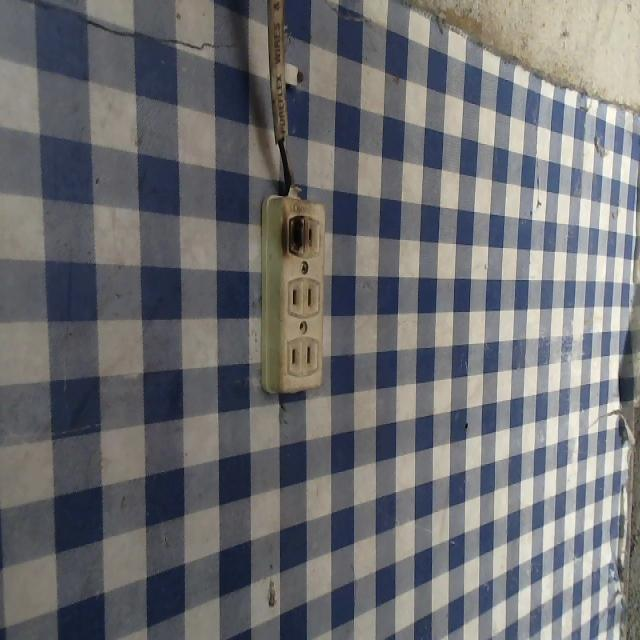-: (281, 212, 308, 257)
